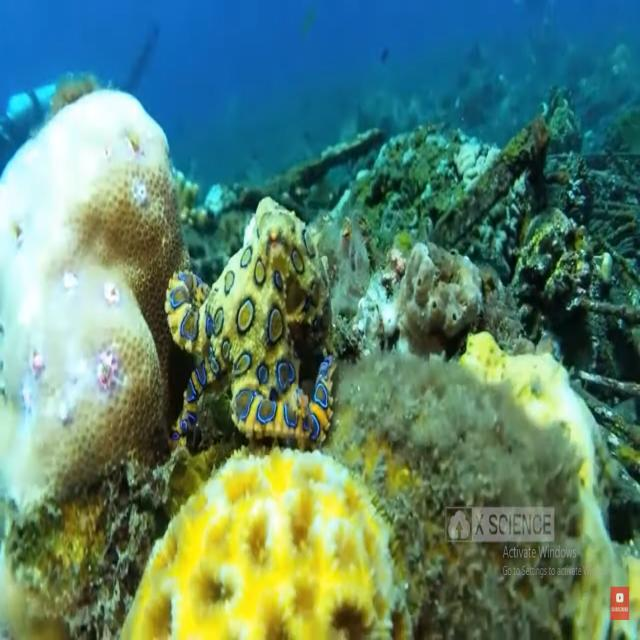blue_ringed_octopus: (164, 195, 338, 448)
